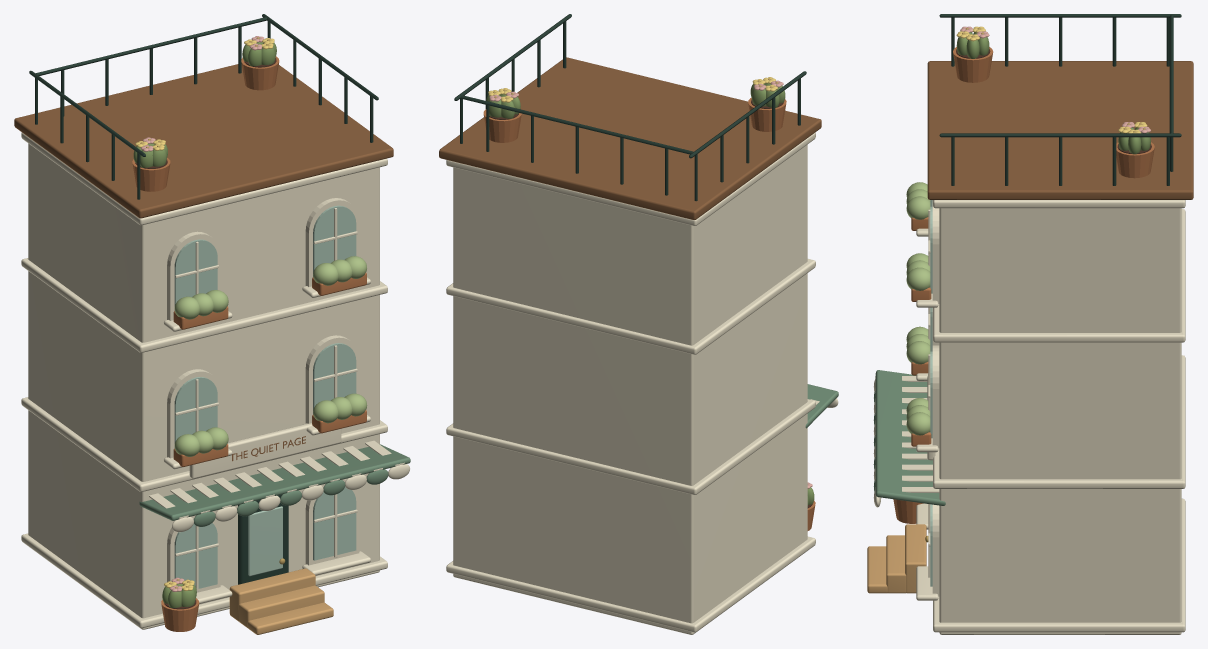
Rendered from bookshop.glb.
3 renders of one model, left to right at view 1: azimuth 30°, elevation 25°; view 2: azimuth 150°, elevation 25°; view 3: azimuth 270°, elevation 25°, orthographic. The views are drawn at different scales.
Visible parts, largest first — view 1: Plaster house.003, Roof.003, Canvas awning.003, Stone cornice.014, Sign frame.003, Stone cornice.015, Stone cornice.012, Stone cornice.013, Window glass.019, Window glass.018, Door pane.003, Window glass.020 (+24 smaller); view 2: Plaster house.003, Roof.003, Stone cornice.012, Stone cornice.013, Stone cornice.014, Stone cornice.015, Terrace railing.011, Terracotta pot.016, Terracotta pot.015, Canvas awning.003, Terrace railing.009, Terrace railing.010; view 3: Plaster house.003, Roof.003, Canvas awning.003, Stone cornice.012, Stone cornice.013, Stone cornice.014, Stone cornice.015, Shop entrance step.009, Terrace railing.010, Shop entrance step.010, Shop entrance step.011, Terrace railing.009 (+12 smaller).
Boxes of the visible parts, x1=… form: Plaster house.003: x1=28, y1=143, x2=379, y2=629; Roof.003: x1=14, y1=64, x2=393, y2=218; Canvas awning.003: x1=139, y1=444, x2=410, y2=520; Stone cornice.014: x1=21, y1=258, x2=387, y2=352; Sign frame.003: x1=189, y1=423, x2=341, y2=478; Stone cornice.015: x1=21, y1=132, x2=387, y2=225; Stone cornice.012: x1=21, y1=533, x2=387, y2=628; Stone cornice.013: x1=21, y1=397, x2=387, y2=491; Window glass.019: x1=313, y1=486, x2=356, y2=560; Window glass.018: x1=174, y1=519, x2=217, y2=588; Door pane.003: x1=248, y1=506, x2=282, y2=576; Window glass.020: x1=174, y1=377, x2=217, y2=443; Plaster house.003: x1=453, y1=144, x2=807, y2=634; Roof.003: x1=439, y1=57, x2=821, y2=219; Stone cornice.012: x1=446, y1=536, x2=815, y2=632; Stone cornice.013: x1=446, y1=399, x2=815, y2=494; Stone cornice.014: x1=446, y1=259, x2=815, y2=354; Stone cornice.015: x1=446, y1=132, x2=815, y2=225; Terrace railing.011: x1=460, y1=95, x2=693, y2=154; Terracotta pot.016: x1=483, y1=109, x2=521, y2=142; Terracotta pot.015: x1=748, y1=97, x2=786, y2=131; Canvas awning.003: x1=805, y1=384, x2=838, y2=428; Terrace railing.009: x1=689, y1=71, x2=806, y2=158; Terrace railing.010: x1=454, y1=14, x2=571, y2=100; Plaster house.003: x1=939, y1=208, x2=1181, y2=634; Roof.003: x1=927, y1=61, x2=1193, y2=199; Canvas awning.003: x1=875, y1=370, x2=945, y2=505; Stone cornice.012: x1=933, y1=498, x2=1185, y2=632; Stone cornice.013: x1=933, y1=355, x2=1185, y2=488; Stone cornice.014: x1=933, y1=209, x2=1185, y2=342; Stone cornice.015: x1=933, y1=200, x2=1185, y2=208; Shop entrance step.009: x1=905, y1=524, x2=926, y2=593; Terrace railing.010: x1=939, y1=133, x2=1181, y2=137; Shop entrance step.010: x1=886, y1=535, x2=906, y2=593; Shop entrance step.011: x1=867, y1=546, x2=887, y2=593; Terrace railing.009: x1=939, y1=14, x2=1181, y2=17.
Size of the model in its own units: 4.6 by 8.21 by 4.85.
